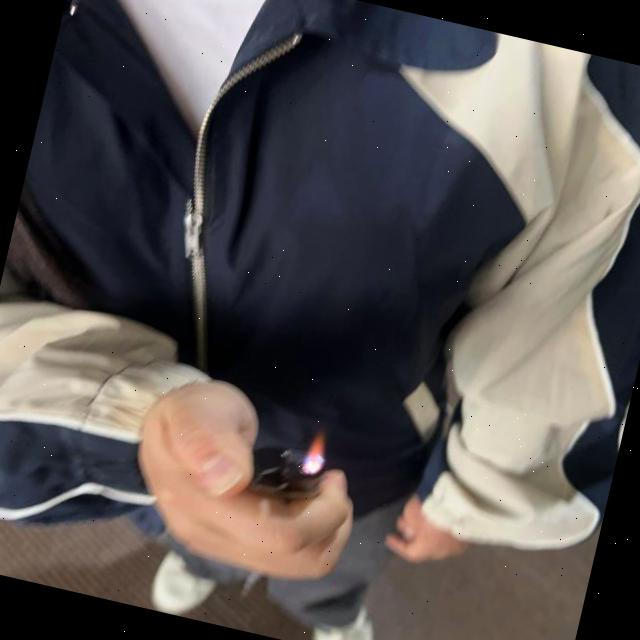fire: (300, 430, 332, 477)
